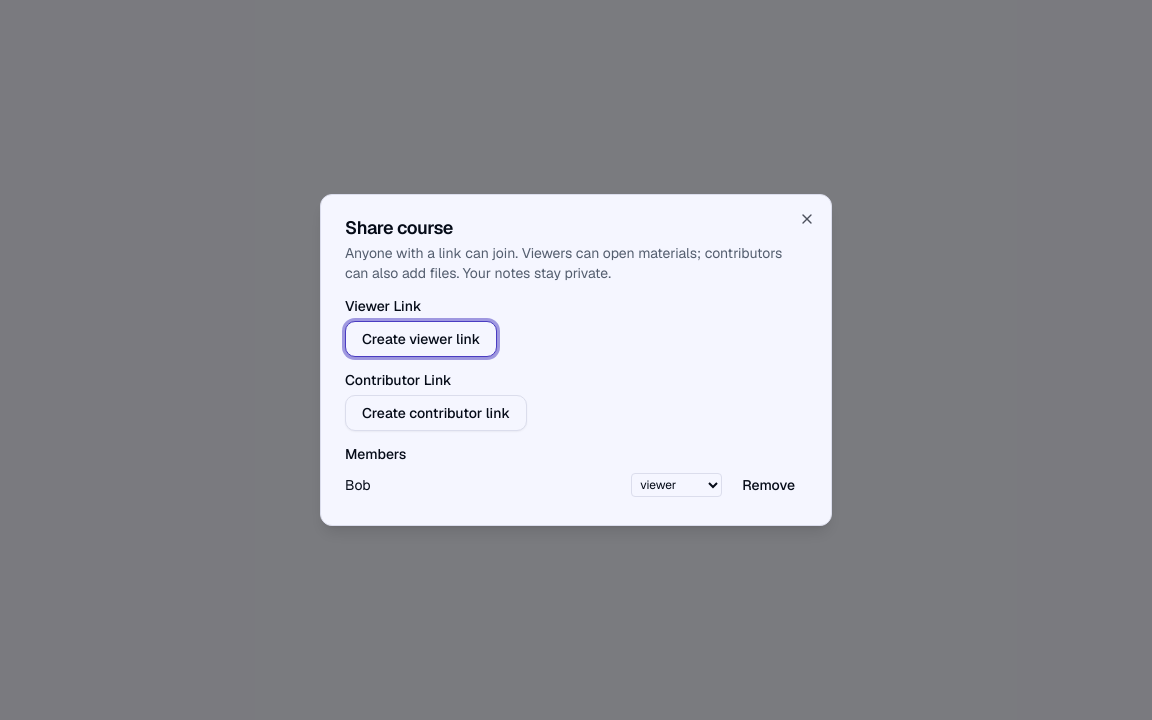
Test: ShareCourseDialog › generates a viewer link and shows the URL
The image size is (1152, 720).
Click the button "Create viewer link" at (421, 339), box [345,321,497,357]
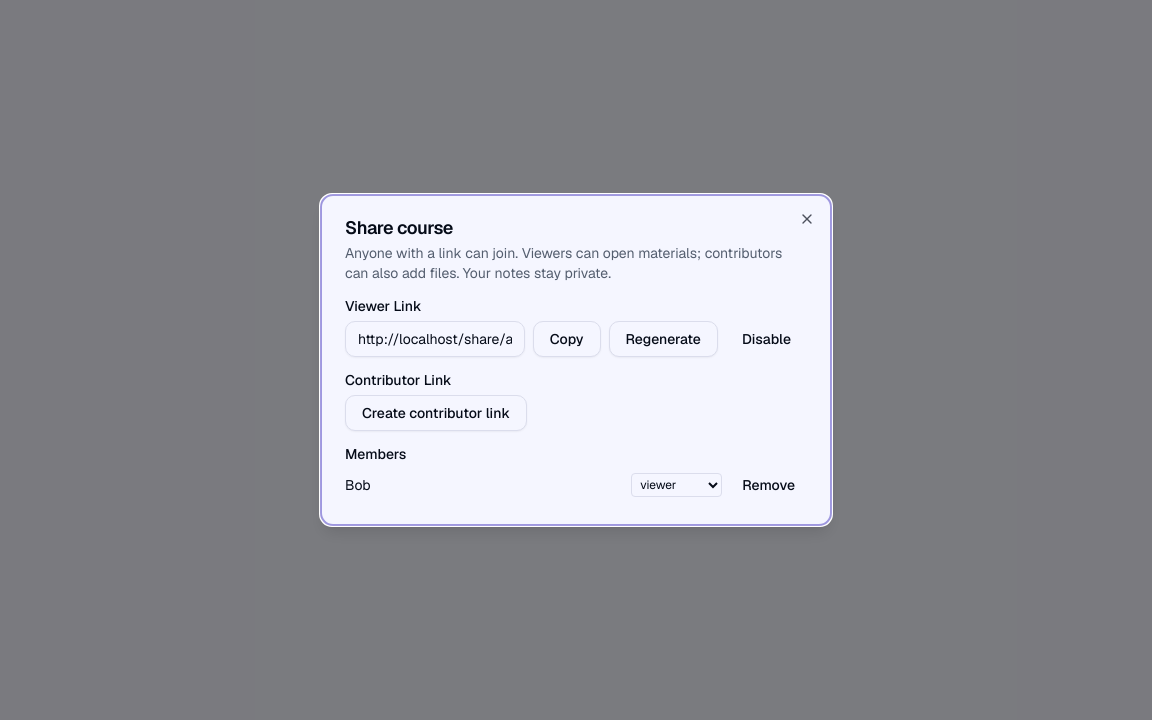
Check: the field showing "abc123token" is shown, box [345,321,525,357]
